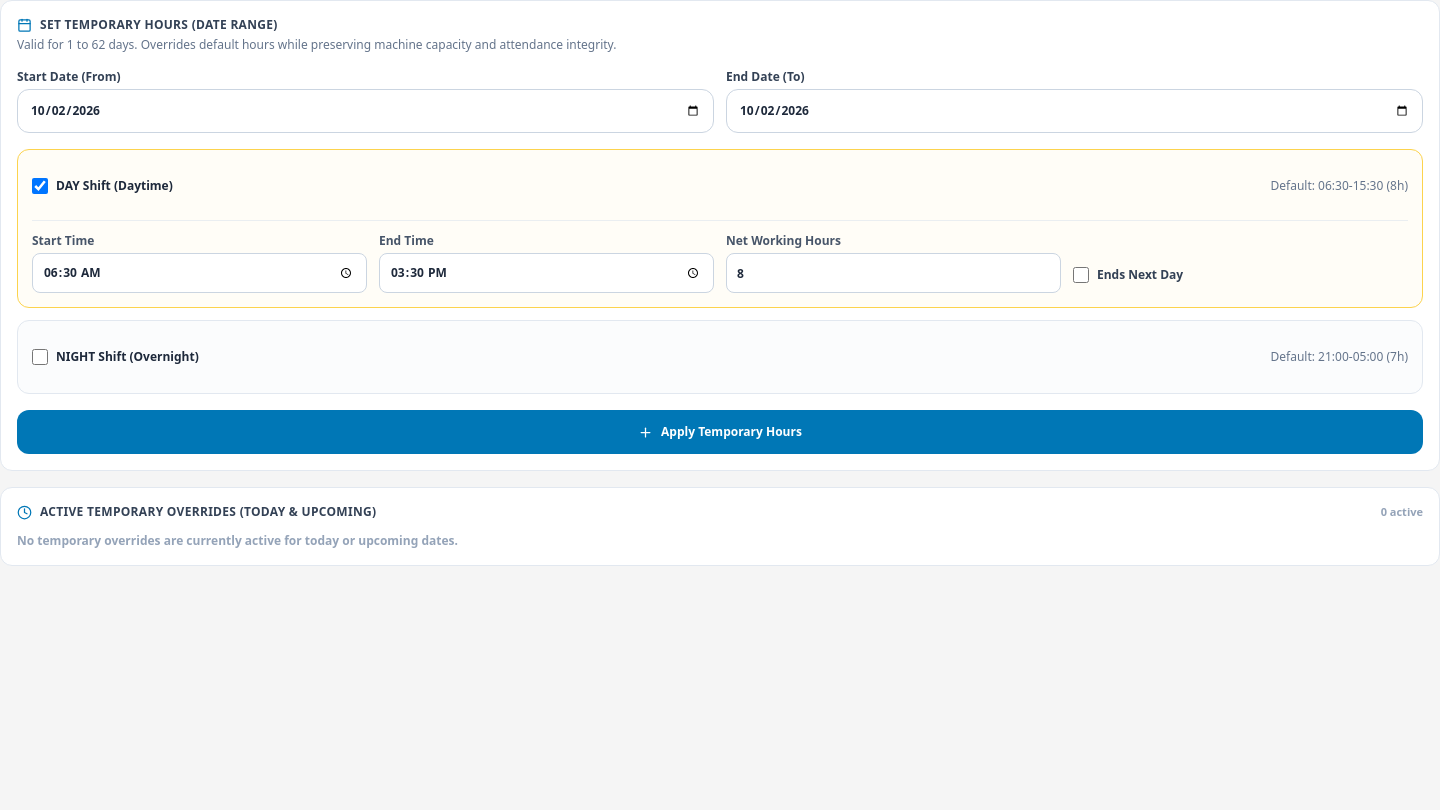
PREVIEW_STALE — deteksi via err.code (APPLY) › refresh berhasil: alasan dipertahankan, konfirmasi ulang wajib, retry memakai token baru
Click the button "Apply Temporary Hours": (720, 432) [17, 410, 1423, 454]
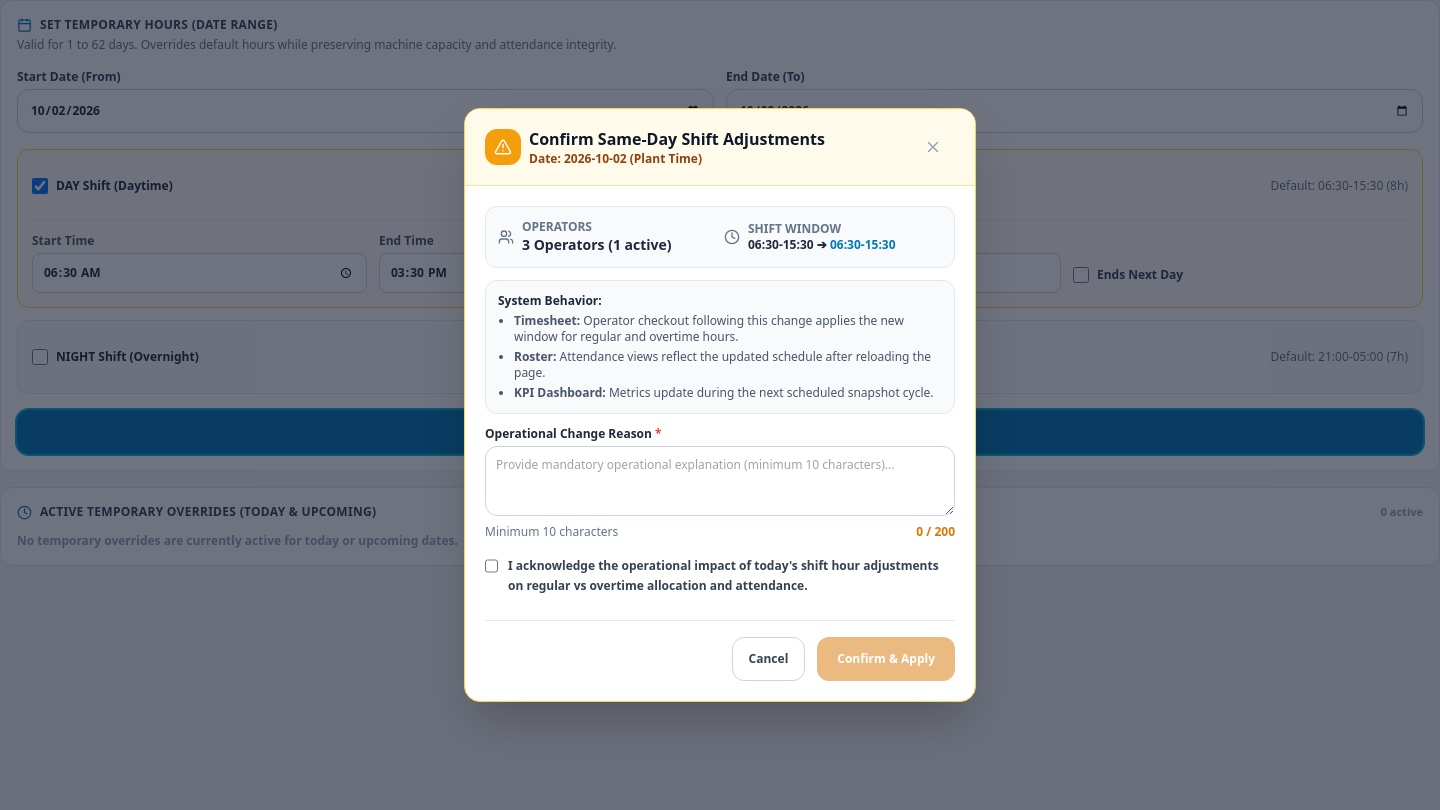
Expected: the heading "Confirm Same-Day Shift Adjustments" is shown, [529, 127, 825, 151]
In the text box labelled "Operational Change Reason *": (720, 481) [485, 446, 955, 516], type "Emergency adjustment due to facility grid maintenance"
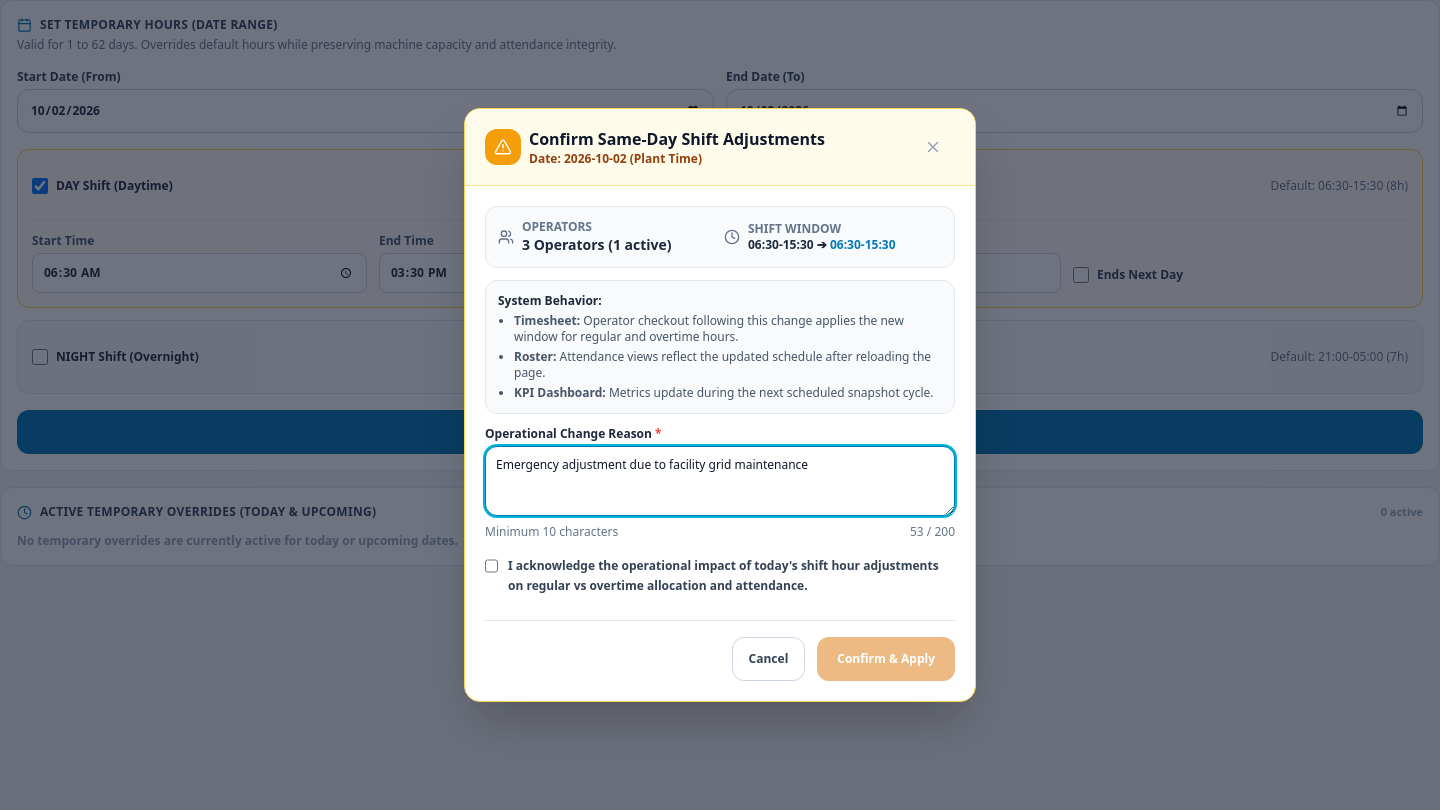
Click the checkbox labelled "I acknowledge the operational impact": (492, 566) [485, 558, 498, 574]
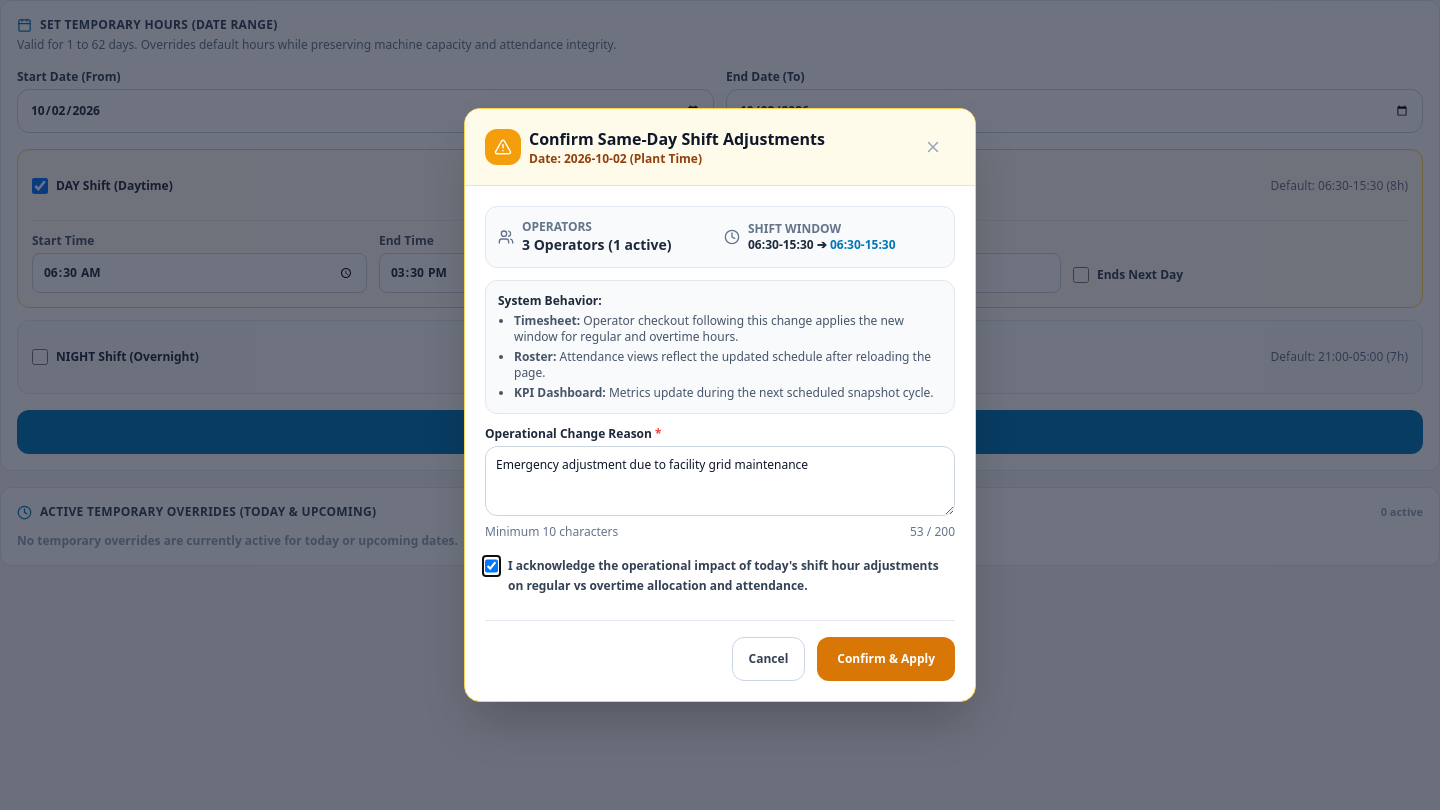
Click the button "Confirm & Apply": (886, 659) [817, 637, 955, 681]
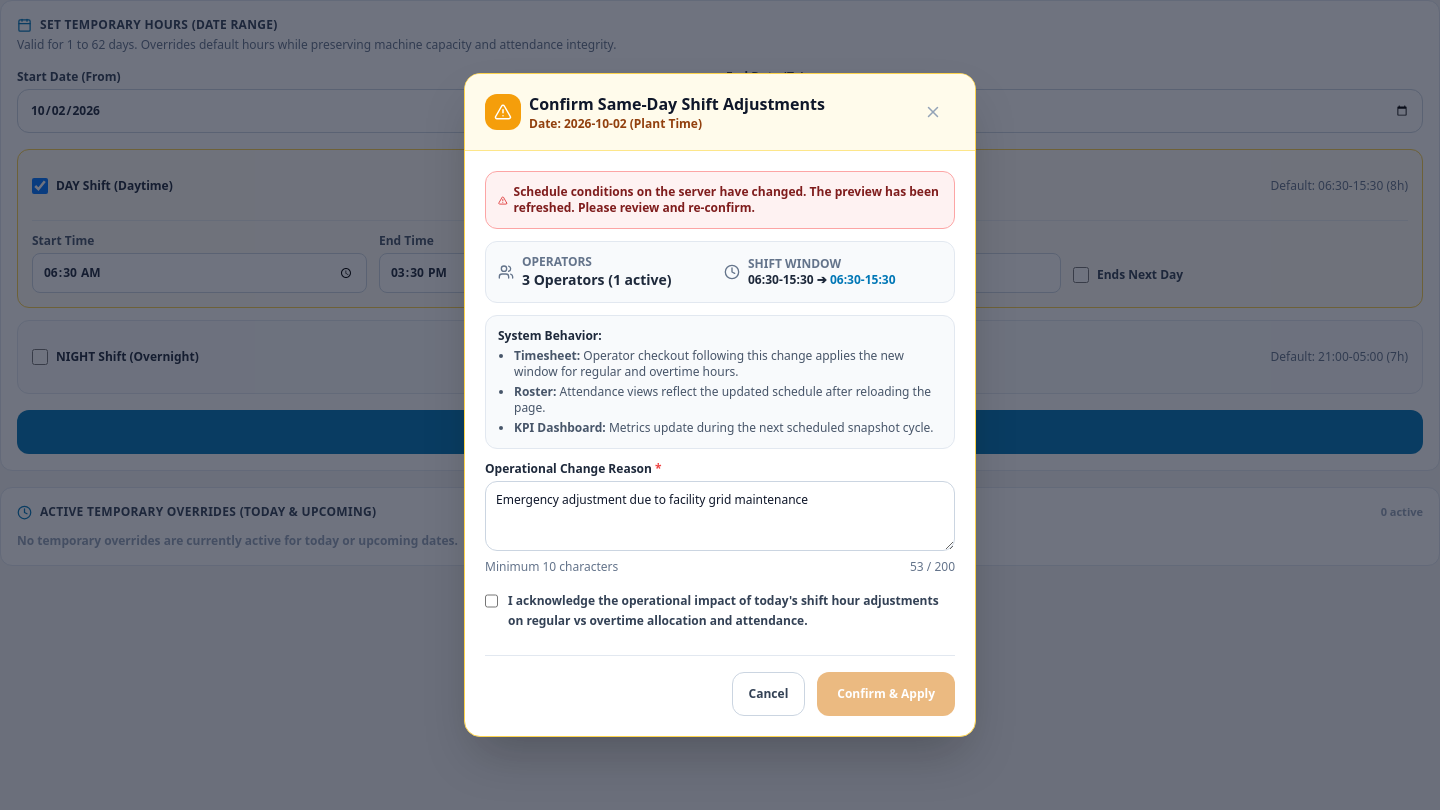
Expected: the checkbox labelled "I acknowledge the operational impact" is not checked
Expected: the text "preview has been refreshed" is shown, [514, 183, 939, 216]
Expected: the button "Confirm & Apply" is disabled, [817, 672, 955, 716]
Click the checkbox labelled "I acknowledge the operational impact": (492, 601) [485, 593, 498, 609]
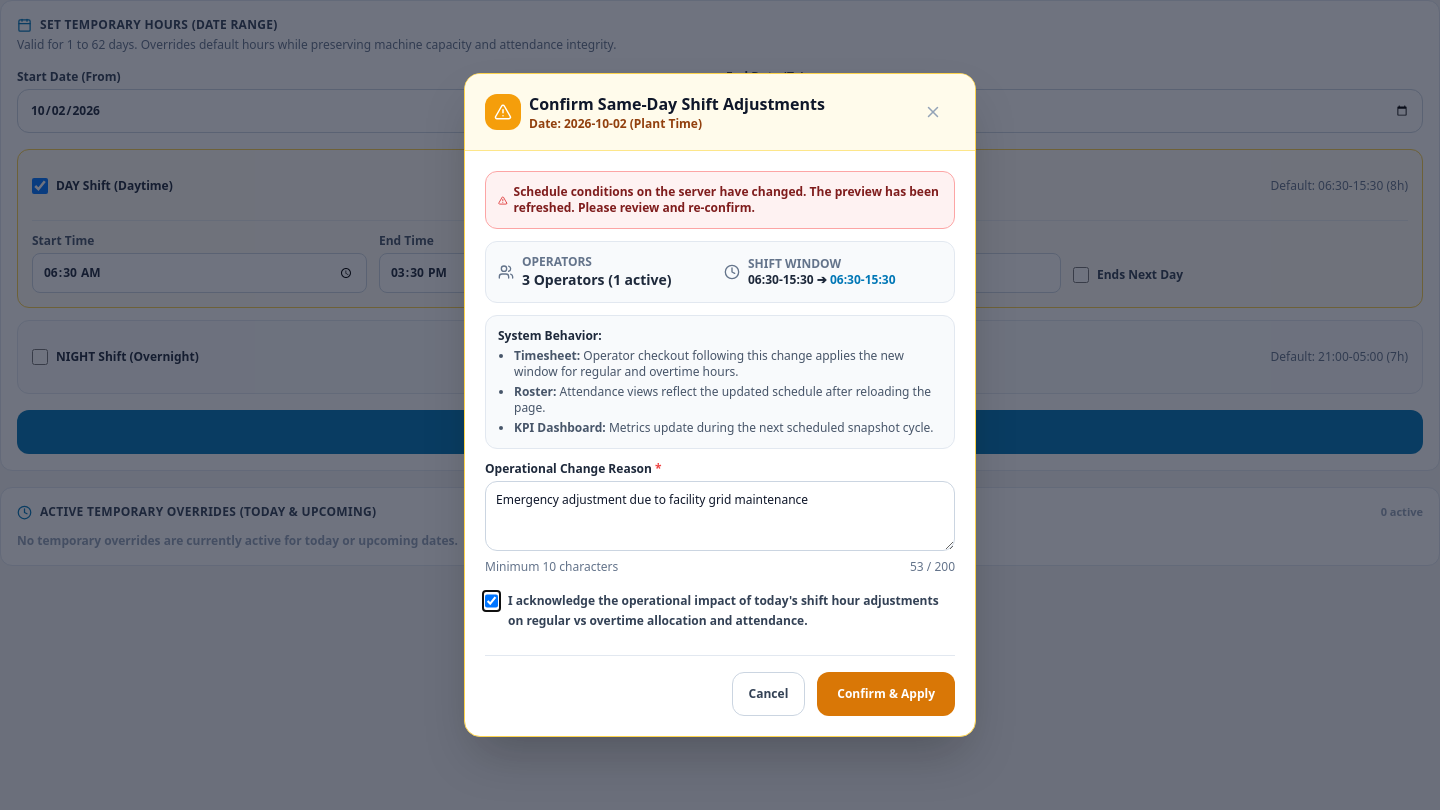
Expected: the button "Confirm & Apply" is enabled
Click the button "Confirm & Apply": (886, 694) [817, 672, 955, 716]
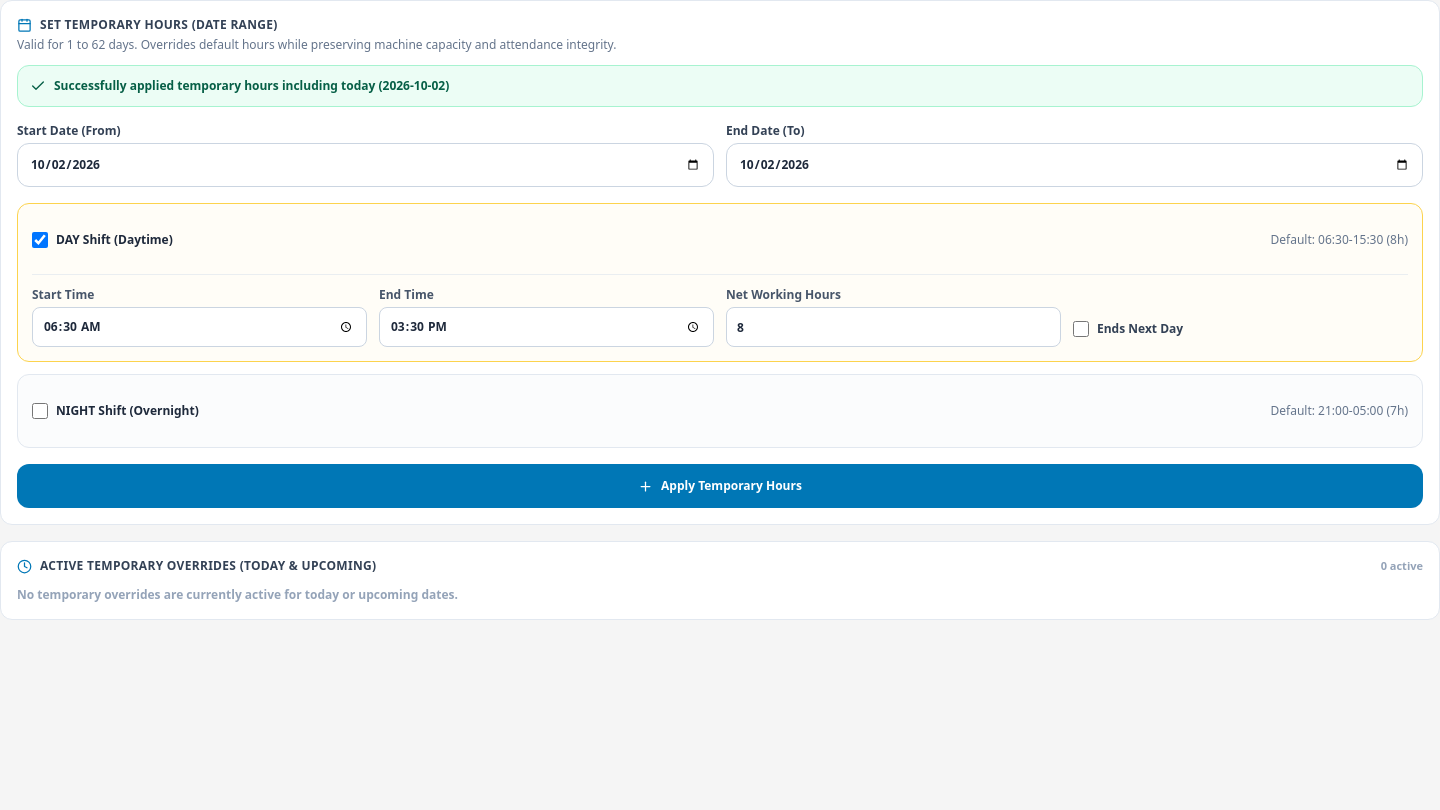
Expected: the heading "Confirm Same-Day Shift Adjustments" is gone
